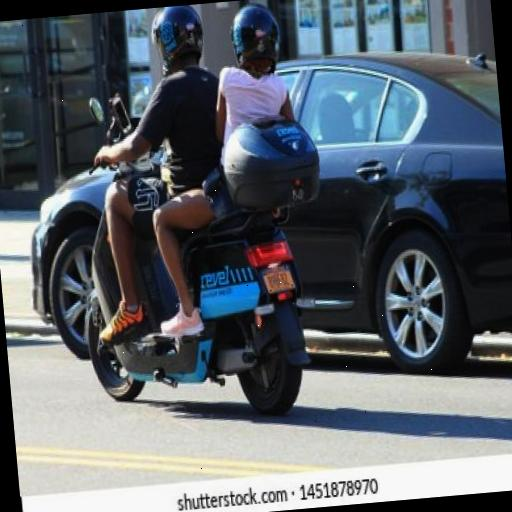helmet: (77, 4, 222, 354)
